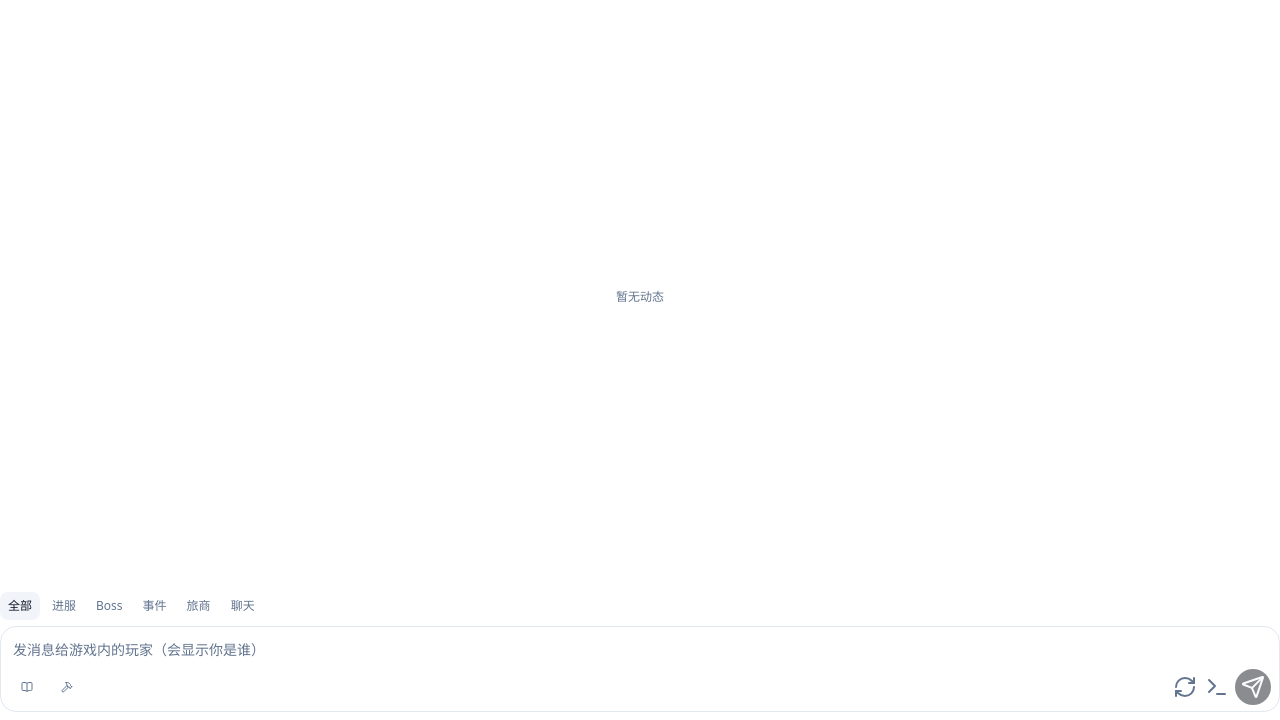
Test: ChatPage › 左下角「合成表」：点一条把带 [i:ID] 标签的记录填进输入框
先打一句话：填充的合成记录要接在它后面（中间补一个空格）。
Type "看这个" into the field with placeholder "发消息给游戏内的玩家（会显示你是谁）" at (640, 649), box [9,633,1271,665]
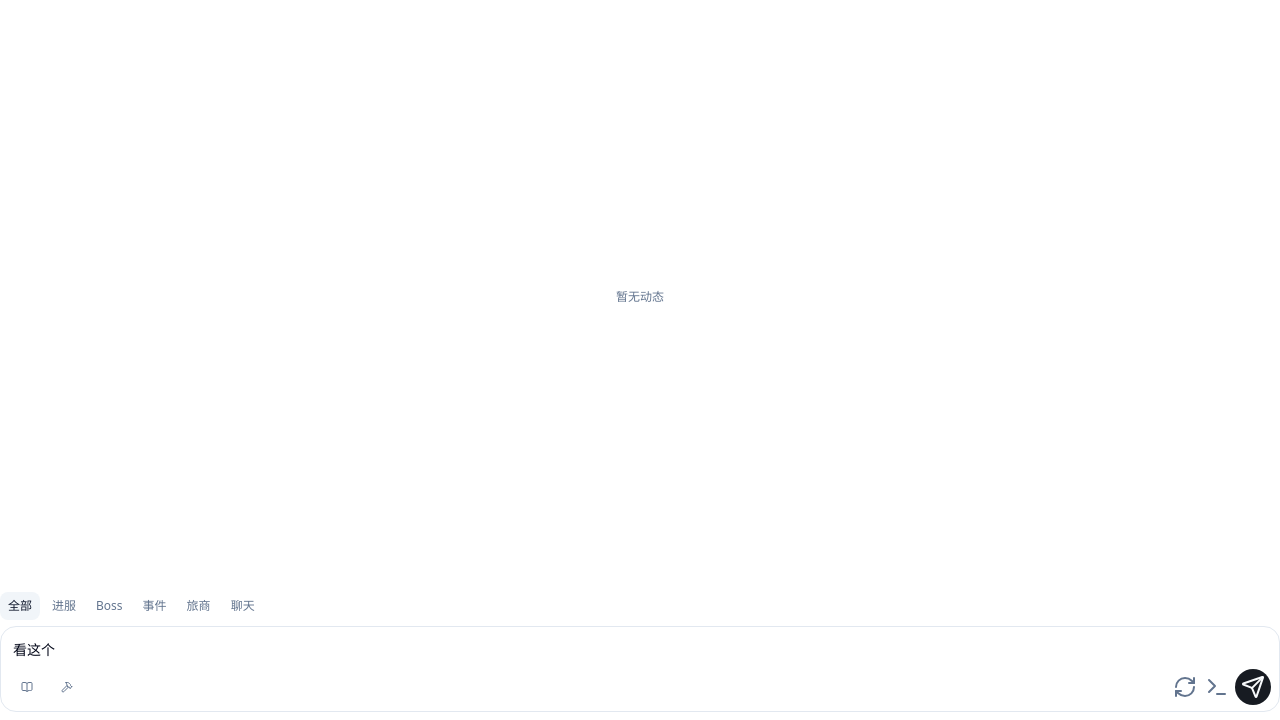
Click the button named "合成表" at (67, 687), box [49,669,85,705]
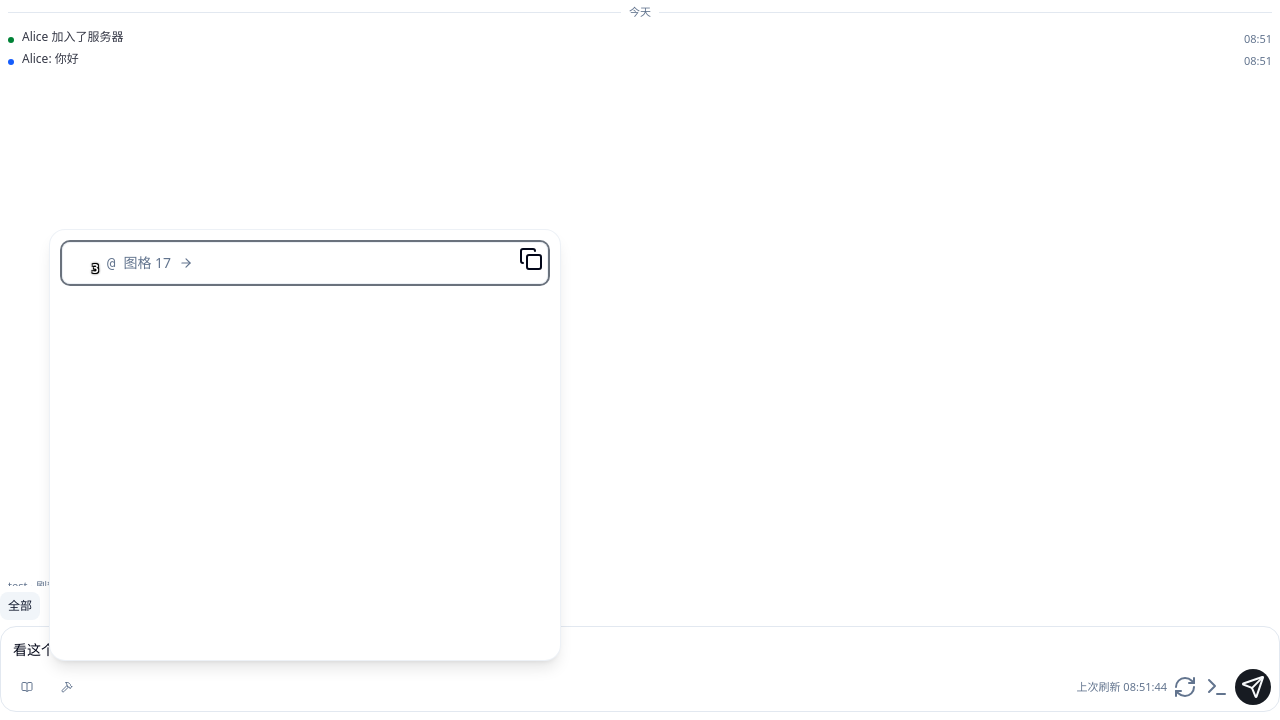
Click the button with test id "recipe-row" at (147, 262), box [62,242,548,284]
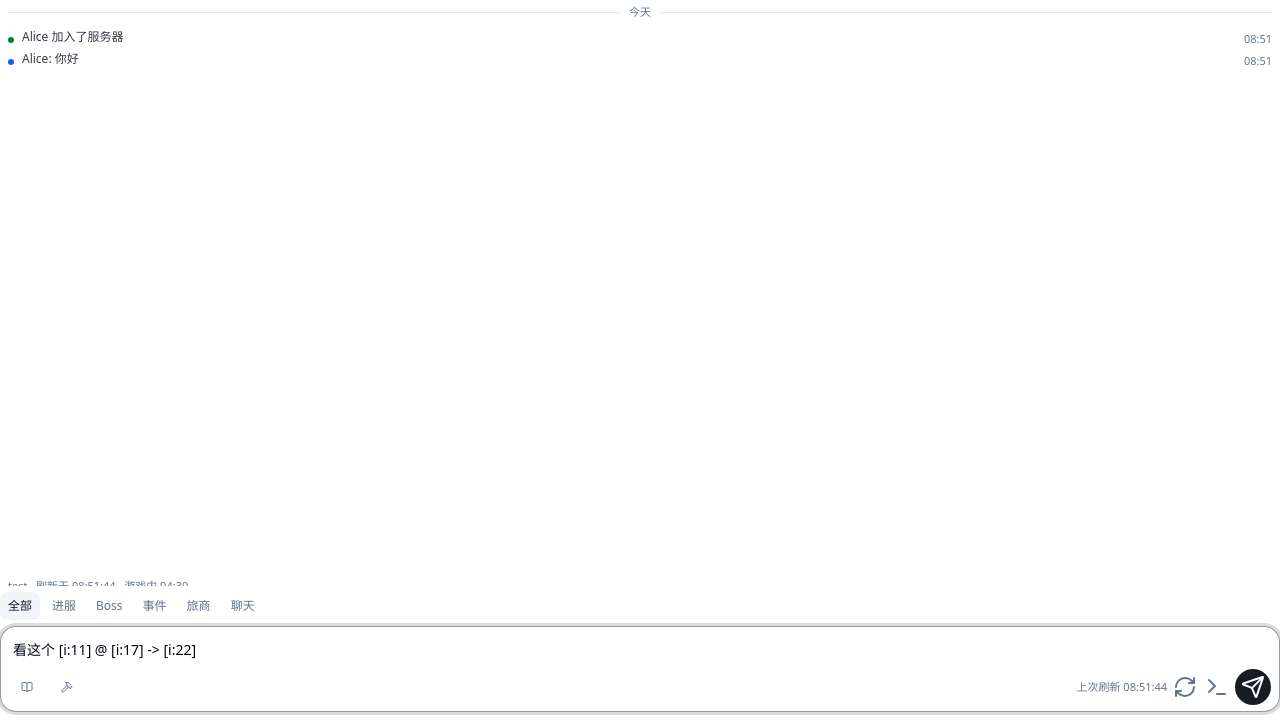
Expected: the field with placeholder "发消息给游戏内的玩家（会显示你是谁）" holds "看这个 [i:11] @ [i:17] -> [i:22]", [9,633,1271,665]
Expected: the dialog is gone
